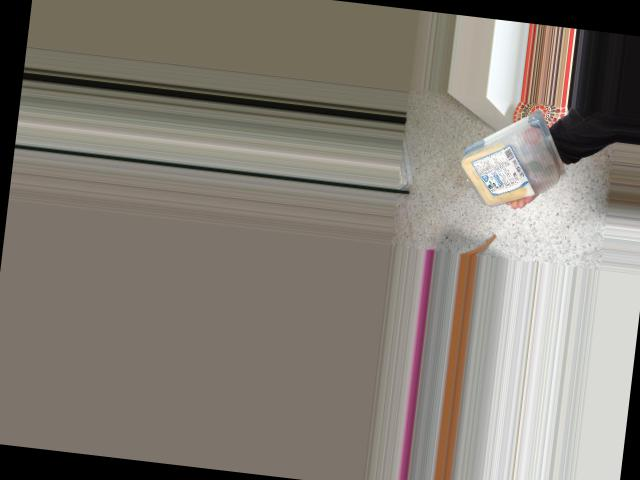cheese: (457, 117, 560, 212)
